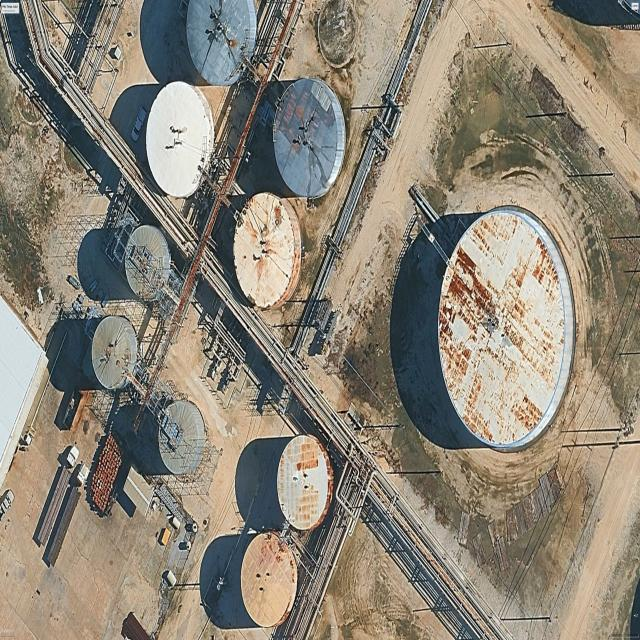Oil Rafinery: (438, 208, 574, 449), (272, 78, 346, 197), (146, 81, 214, 198), (233, 193, 301, 308), (186, 0, 257, 86), (241, 531, 297, 627), (276, 435, 333, 529), (90, 315, 138, 390), (158, 400, 206, 475), (124, 225, 171, 300)
